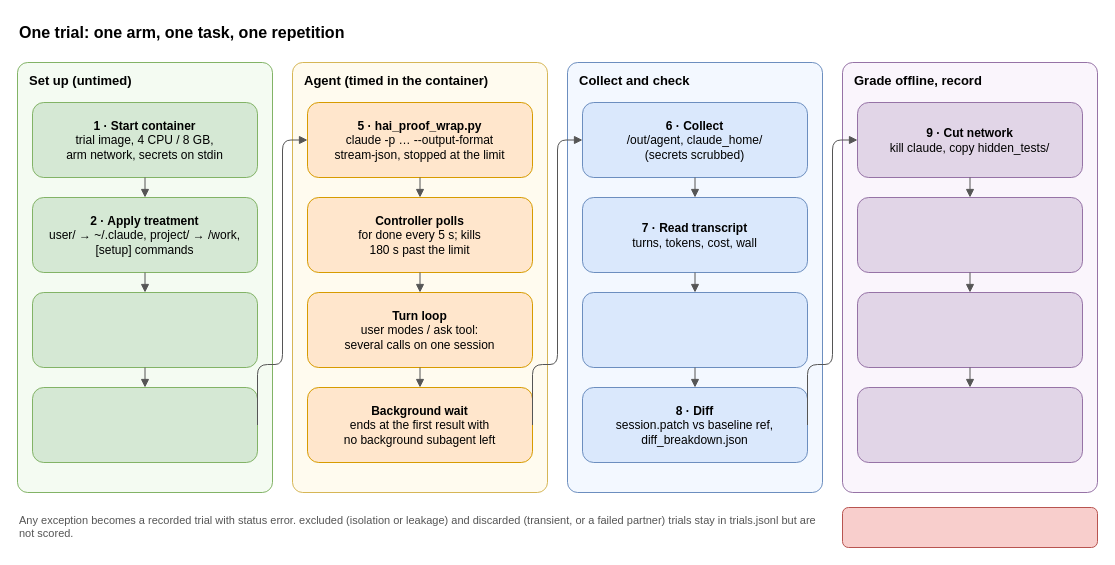
Image size: 1115x565. Some labels were removed from this diagram. Each missing label, with the centre of its shape:
"10–11 · Analyses, record trial.json, trials.jsonl, container removed" belongs at (x=969, y=424).
"3 · Mark start state git commit, refs/hai-proof/baseline" belongs at (x=145, y=330).
"4 · Build prompt prefix + prompt.md or variant into scripted turns" belongs at (x=145, y=424).
"Acceptance hidden tests (pytest ids or acceptance_cmd)" belongs at (x=969, y=234).
"Checks isolation · leakage · rate / usage / auth · tool use" belongs at (x=695, y=330).
"Regression project's own suite, agent's tests included" belongs at (x=969, y=330).
"success = acceptance ∧ regression" belongs at (x=970, y=527).
